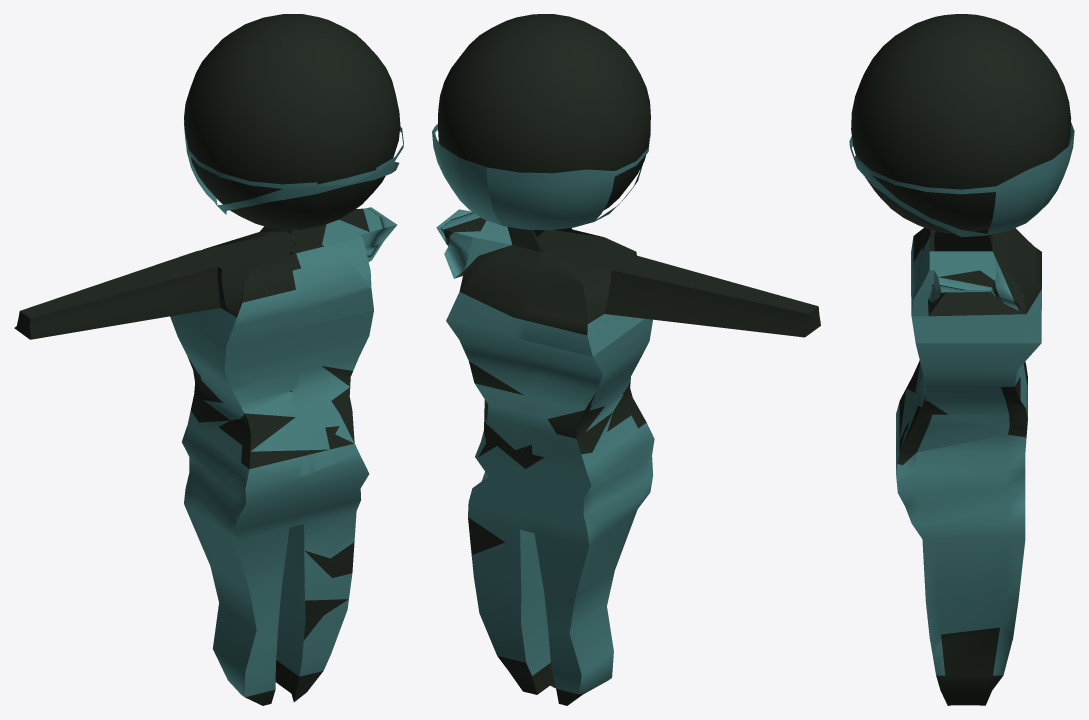
Rendered from nurse_women_zombie.obj.
3 renders of one model, left to right at view 1: azimuth 30°, elevation 25°; view 2: azimuth 150°, elevation 25°; view 3: azimuth 270°, elevation 25°, orthographic. The views are drawn at different scales.
Visible parts, largest first — view 1: pSphere3, pSphere14; view 2: pSphere3, pSphere14; view 3: pSphere3, pSphere14.
Part boxes in pixels (x1,y1,x2,y2): pSphere3: [14, 14, 400, 705]; pSphere14: [184, 122, 403, 214]; pSphere3: [436, 14, 820, 705]; pSphere14: [432, 124, 650, 230]; pSphere3: [851, 14, 1071, 705]; pSphere14: [849, 122, 1074, 237].
Size of the model in its own units: 3.92 by 6.85 by 2.04.
